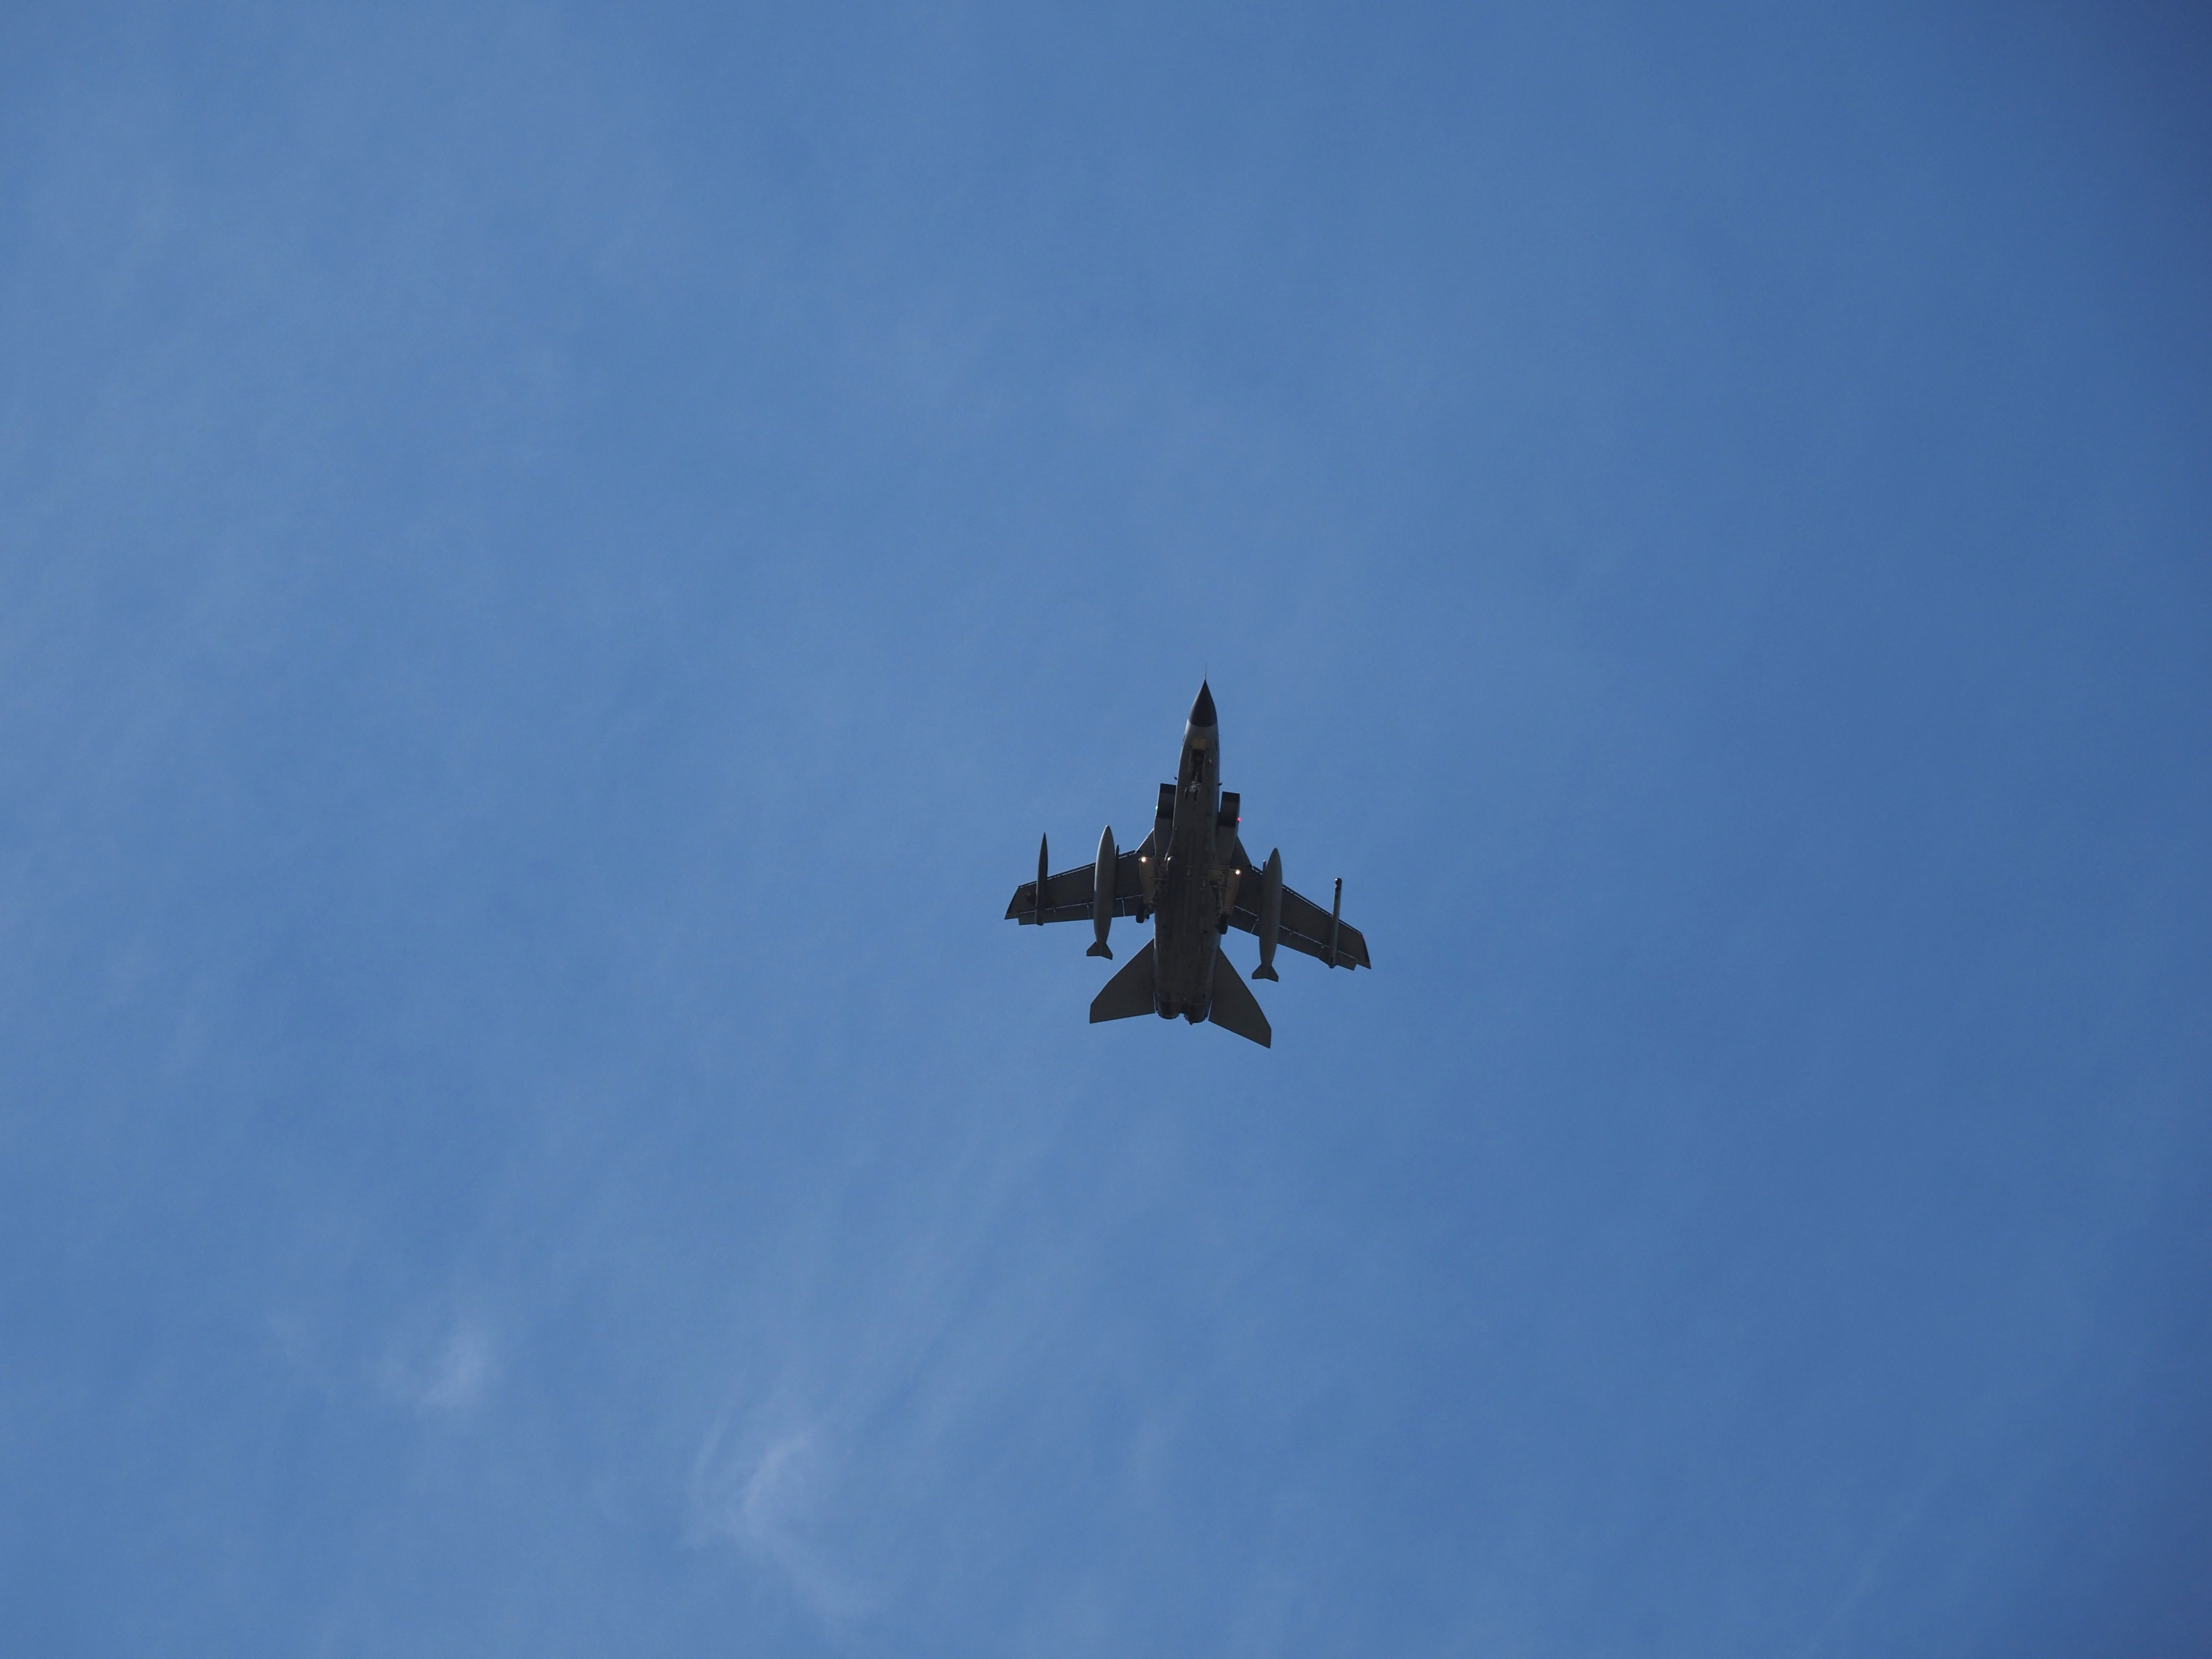Tornado: (1003, 662, 1372, 1049)
